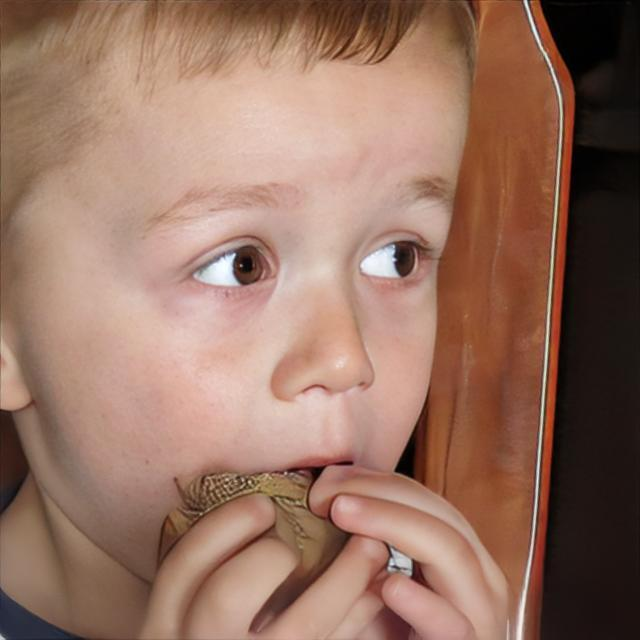fear: (77, 45, 452, 528)
